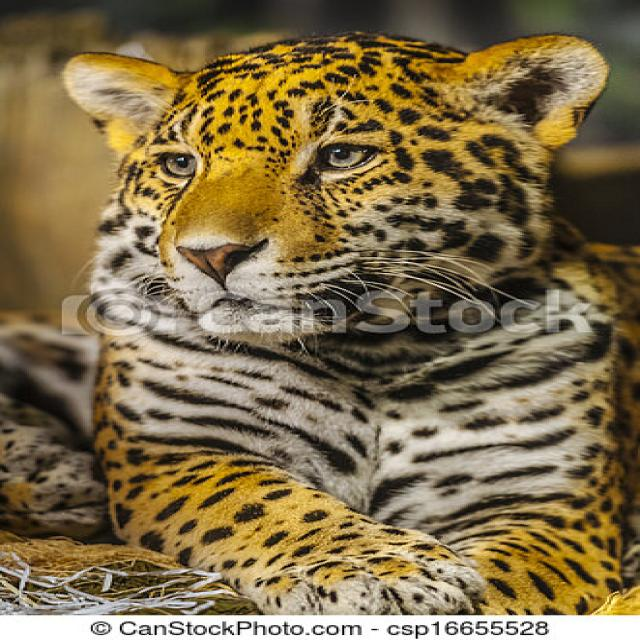Jaguar: (0, 30, 640, 610)
